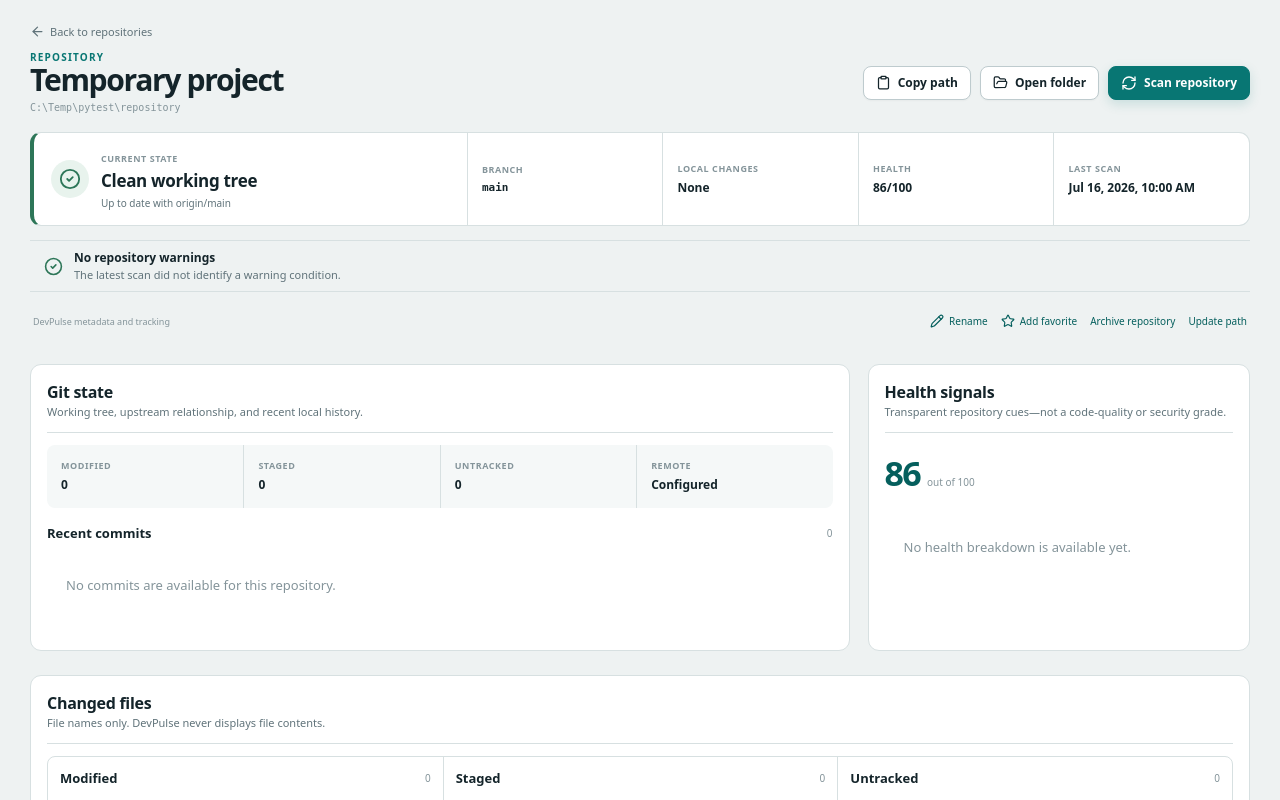
Test: repository detail hierarchy › confirms that the repository path was copied
What coordinates should you click on to do the following:
click the button with aria-label "Copy repository path"
I would click on:
 (917, 83)
Its box is x1=863 y1=66 x2=971 y2=100.
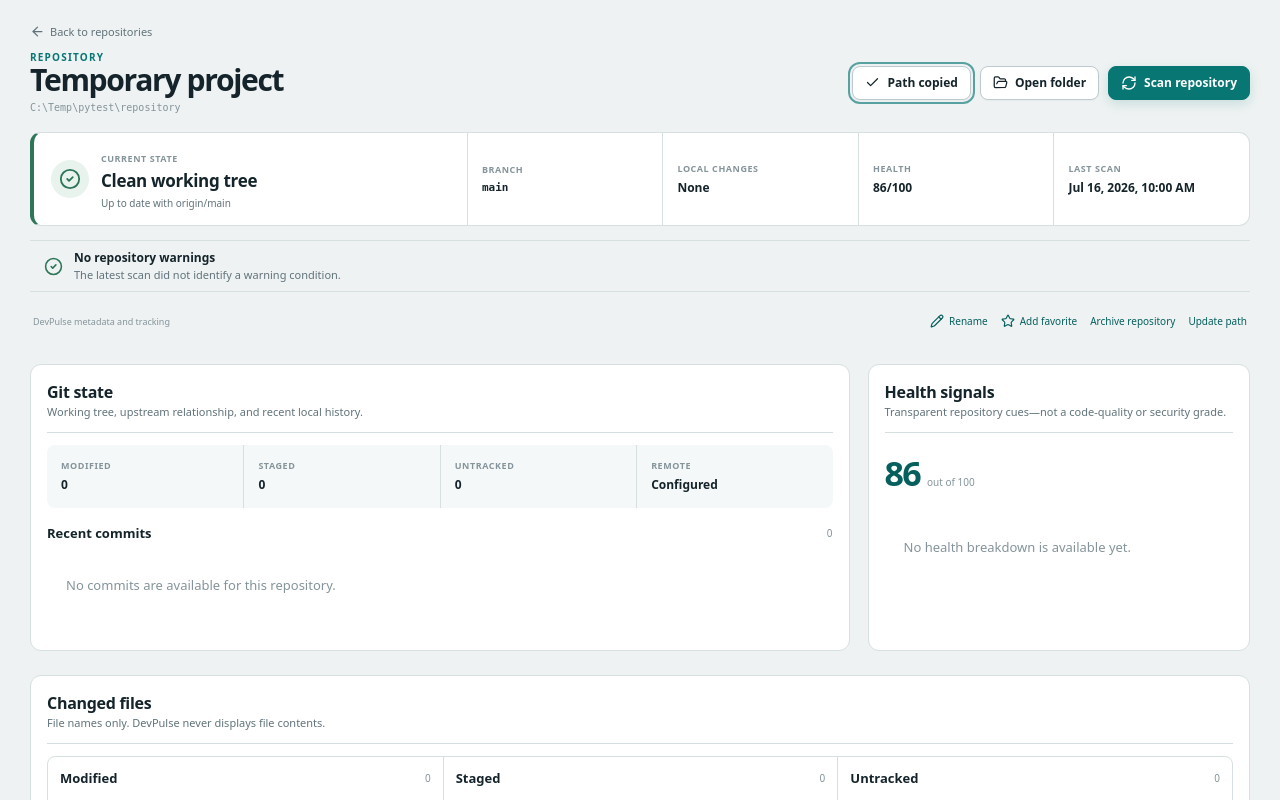
Now the button "Path copied" is shown, box x1=852 y1=66 x2=971 y2=100
